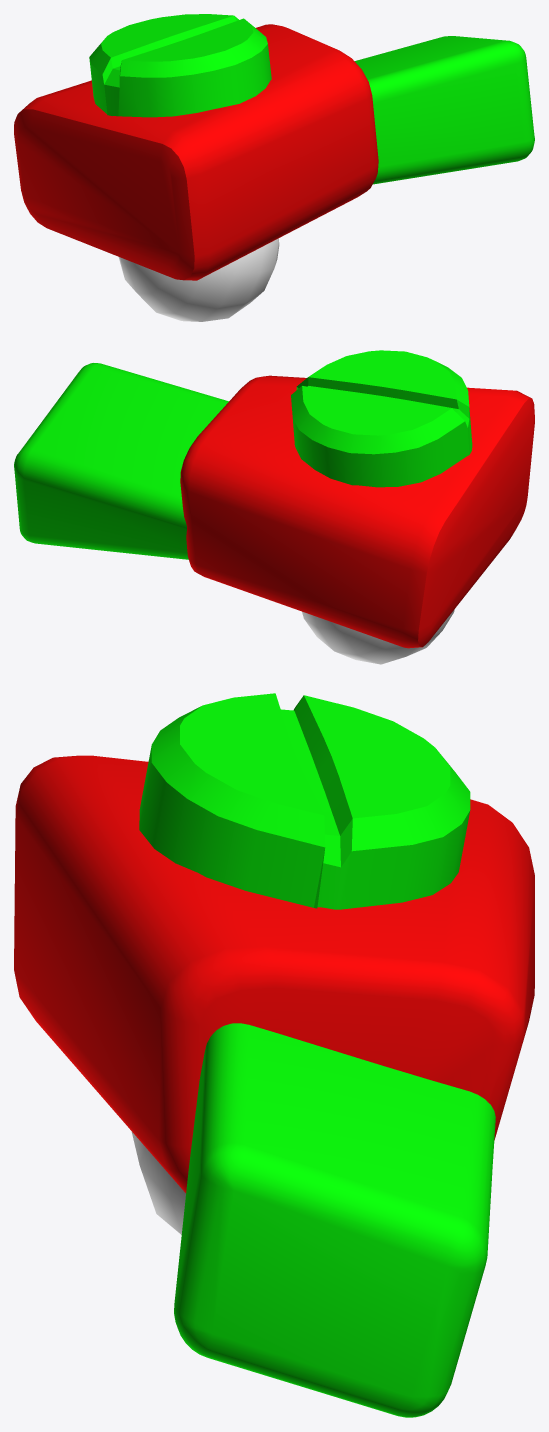
The model's file is Treble_UpperArm.fbx.
The picture shows the model from 3 angles, top to bottom: view 1: azimuth 30°, elevation 25°; view 2: azimuth 150°, elevation 25°; view 3: azimuth 270°, elevation 25°; orthographic projection. The views are drawn at different scales.
Parts seen in each view (by area): view 1: Treble_UpperArm; view 2: Treble_UpperArm; view 3: Treble_UpperArm.
Part boxes in pixels (x1,y1,x2,y2): Treble_UpperArm: [14, 14, 534, 321]; Treble_UpperArm: [14, 350, 534, 664]; Treble_UpperArm: [14, 693, 534, 1417].
Bounding box in the file's own units: 32.02 × 19.8 × 17.99.
